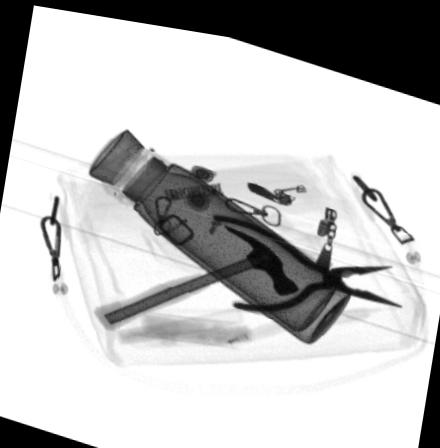Hammer: (92, 217, 300, 327)
Pliers: (213, 204, 404, 303)
